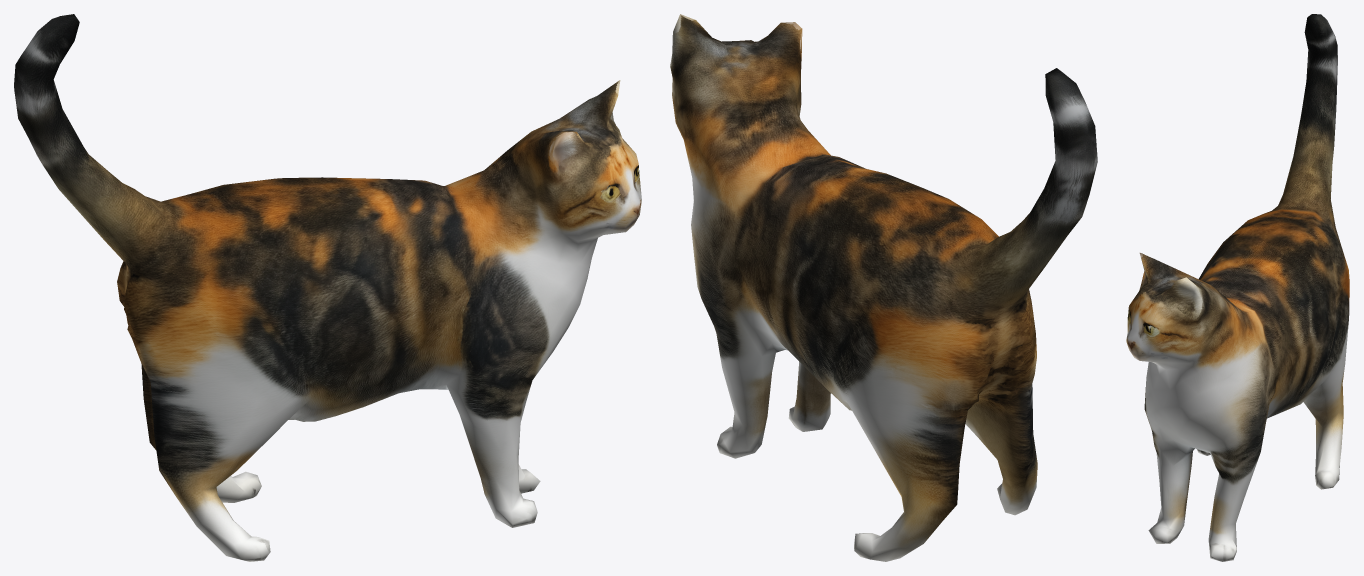
File: cat_calico_single_1500.glb
3 views of the same model, side by side, from view 1: azimuth 30°, elevation 25°; view 2: azimuth 150°, elevation 25°; view 3: azimuth 270°, elevation 25° (orthographic). The views are drawn at different scales.
Bounding box in the file's own units: 0.8899 × 0.8742 × 0.4384.
Materials: 1 (1 with a texture image).
